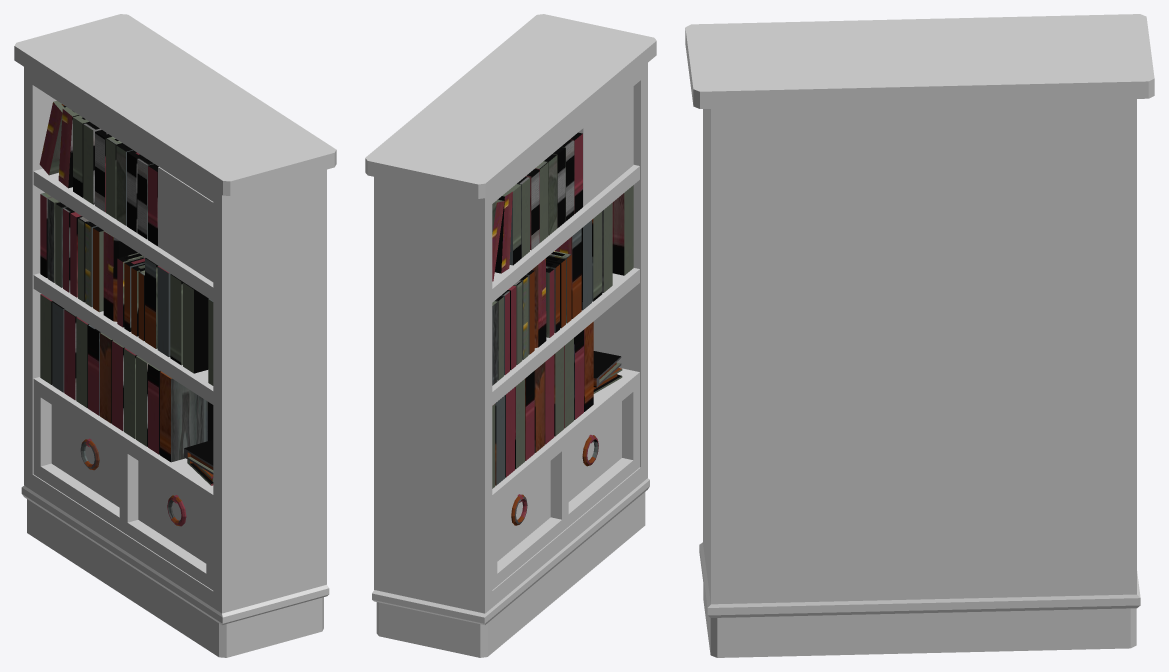
Rendered from Estanteria_4.fbx.
3 views of the same model, side by side, from view 1: azimuth 30°, elevation 25°; view 2: azimuth 150°, elevation 25°; view 3: azimuth 270°, elevation 25° (orthographic). The views are drawn at different scales.
Visible parts, largest first — view 1: Plane.066; view 2: Plane.066; view 3: Plane.066.
Part boxes in pixels (bbox=[...]): Plane.066: bbox=[14, 14, 336, 657]; Plane.066: bbox=[365, 14, 656, 657]; Plane.066: bbox=[685, 14, 1154, 657].
Bounding box in the file's own units: 62.83 × 214 × 160.
